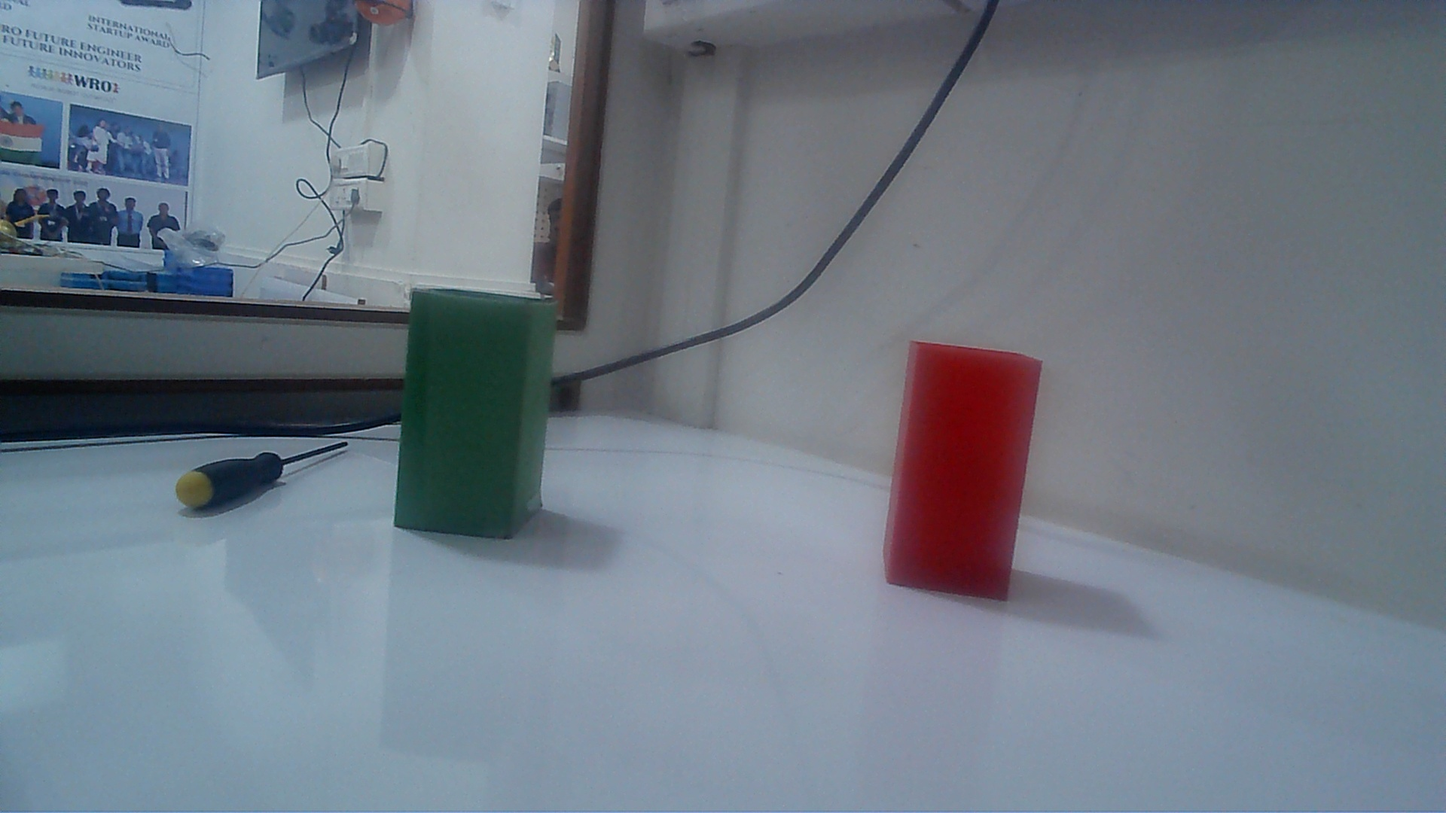red: (881, 347, 1039, 605)
